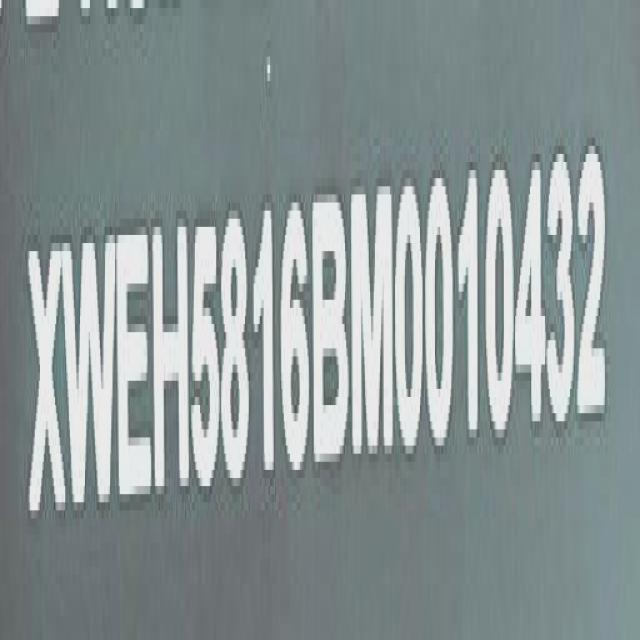0: (395, 173, 426, 459), (426, 171, 456, 455), (485, 168, 514, 447)
1: (454, 166, 480, 454), (254, 212, 278, 489)
2: (576, 140, 607, 421)
3: (549, 149, 578, 437)
4: (517, 156, 546, 439)
5: (191, 214, 223, 498)
6: (281, 198, 313, 480)
8: (220, 212, 250, 491)
B: (312, 188, 348, 470)
E: (118, 231, 154, 514)
H: (155, 222, 191, 504)
M: (353, 179, 397, 463)
W: (63, 241, 115, 523)
X: (28, 242, 66, 530)
